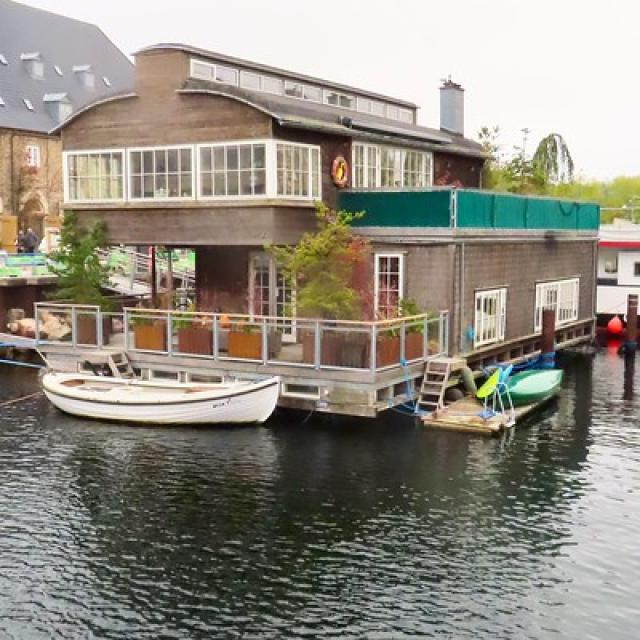Normal_building: (48, 41, 602, 426)
